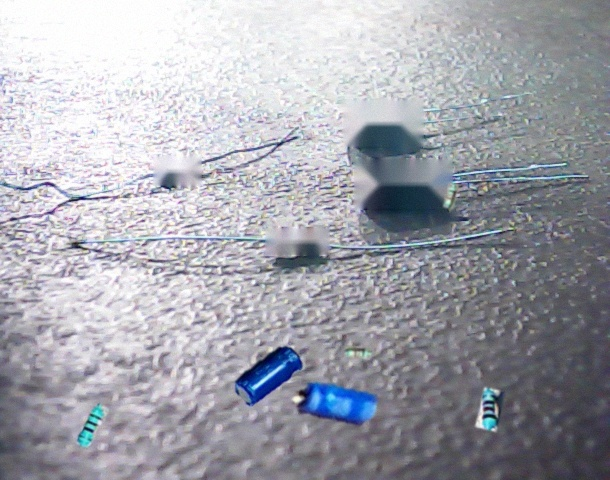capacitor: (235, 346, 303, 407), (291, 382, 379, 427)
resistor: (75, 403, 110, 449), (475, 387, 505, 432), (443, 183, 459, 209), (344, 346, 372, 359)
